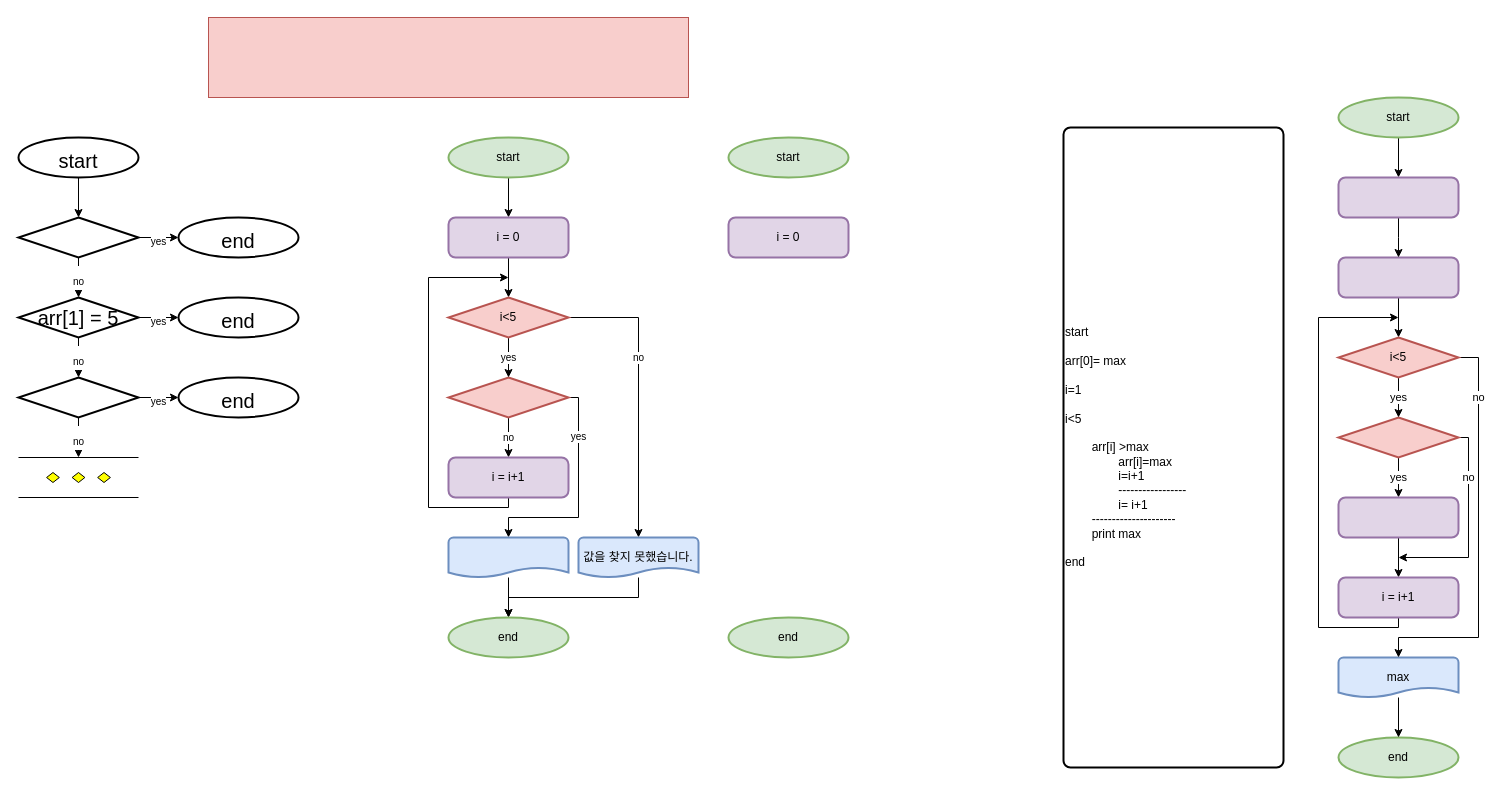
This 1504x796 diagram has some shape labels left out. The shapes that lost their labels are listed below. From the top down, each one's centre as x and y in pixels, then its label:
At (x=448, y=57): "Linear Search".
At (x=1398, y=197): "arr[0] = max".
At (x=78, y=237): "arr[0] = 5".
At (x=1398, y=277): "i=1".
At (x=78, y=397): "arr[2] = 5".
At (x=508, y=397): "arr[i] = 5".
At (x=1398, y=437): "arr[i]>max".
At (x=1398, y=517): "arr[i] = max".
At (x=508, y=557): "찾는 값은 i번째 입니다.".
